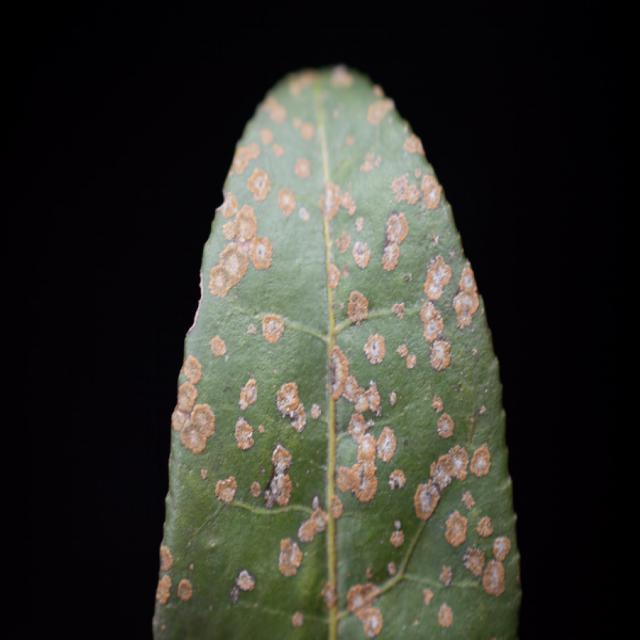Tea red rust: (180, 93, 526, 623)
